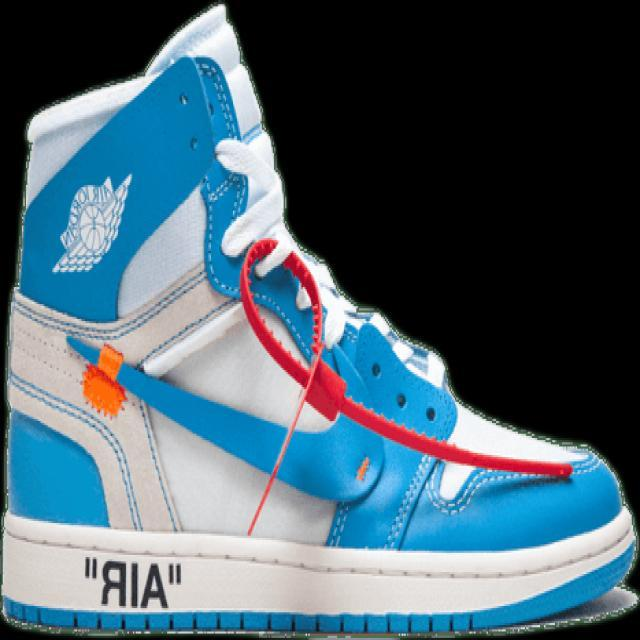J1_InsoleChar: (1, 3, 636, 637)
J1_ShoeLogo: (50, 171, 133, 275), (81, 555, 183, 610)
J1_StitchPattern: (187, 53, 576, 517), (11, 252, 582, 535), (238, 237, 576, 491), (2, 508, 636, 632), (190, 54, 345, 534), (1, 586, 637, 637), (236, 233, 341, 536), (64, 332, 185, 533), (237, 236, 333, 398), (422, 460, 574, 517), (134, 396, 185, 533), (381, 447, 439, 550), (192, 54, 240, 136)
